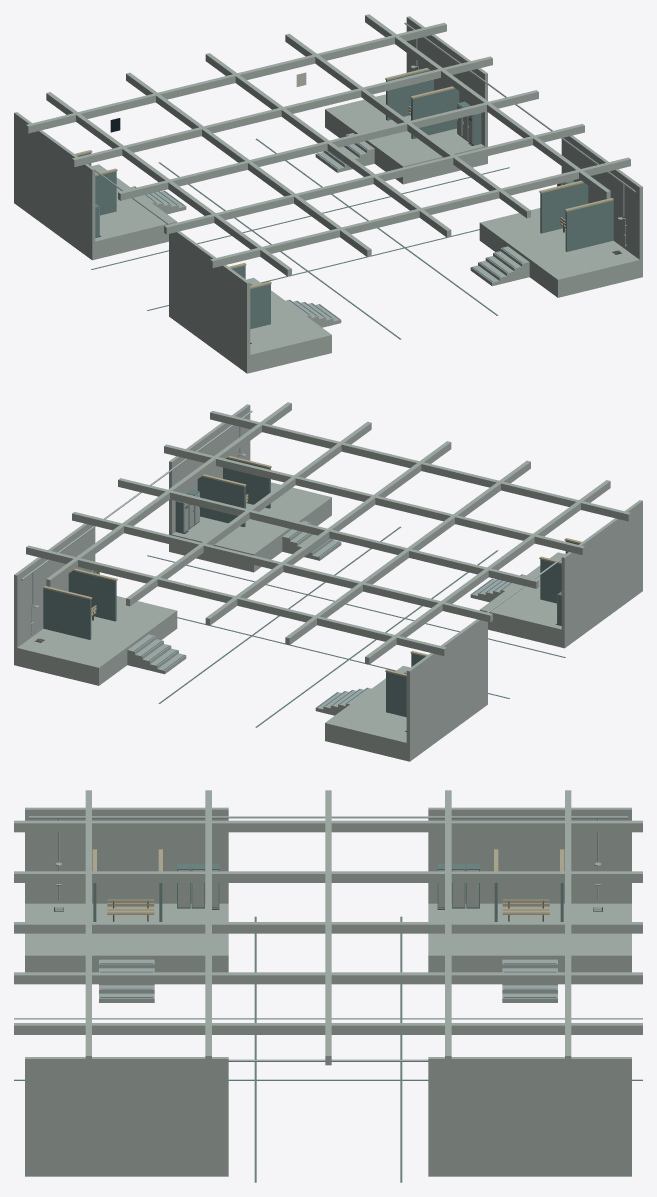
Rendered from quiet-wing-changing-gallery.glb.
3 renders of one model, top to bottom at view 1: azimuth 30°, elevation 25°; view 2: azimuth 150°, elevation 25°; view 3: azimuth 270°, elevation 25°, orthographic. The views are drawn at different scales.
Parts seen in each view (by area): view 1: Ceramic architectural part 168, Ceramic architectural part 084, Ceramic architectural part 033, Ceramic architectural part 066, Ceramic architectural part 117, Ceramic architectural part 015, Ceramic architectural part 010, Ceramic architectural part 004, Ceramic architectural part 002, Ceramic architectural part 008, Ceramic architectural part 006, Ceramic architectural part 186 (+13 smaller); view 2: Ceramic architectural part 117, Ceramic architectural part 033, Ceramic architectural part 084, Ceramic architectural part 015, Ceramic architectural part 168, Ceramic architectural part 066, Ceramic architectural part 002, Ceramic architectural part 008, Ceramic architectural part 004, Ceramic architectural part 006, Ceramic architectural part 010, Ceramic architectural part 135 (+13 smaller); view 3: Ceramic architectural part 135, Ceramic architectural part 186, Ceramic architectural part 033, Ceramic architectural part 084, Ceramic architectural part 015, Ceramic architectural part 066, Ceramic architectural part 001, Ceramic architectural part 007, Ceramic architectural part 003, Ceramic architectural part 005, Ceramic architectural part 009, Ceramic architectural part 117 (+10 smaller).
Part boxes in pixels (x1,y1,x2,y2): Ceramic architectural part 168: (479, 208, 642, 297); Ceramic architectural part 084: (169, 231, 250, 355); Ceramic architectural part 033: (14, 112, 95, 242); Ceramic architectural part 066: (169, 277, 331, 373); Ceramic architectural part 117: (325, 94, 487, 184); Ceramic architectural part 015: (14, 164, 177, 260); Ceramic architectural part 010: (210, 157, 630, 268); Ceramic architectural part 004: (72, 56, 492, 166); Ceramic architectural part 002: (26, 22, 446, 133); Ceramic architectural part 008: (164, 124, 584, 234); Ceramic architectural part 006: (118, 90, 538, 200); Ceramic architectural part 186: (561, 135, 642, 259); Ceramic architectural part 117: (14, 596, 177, 685); Ceramic architectural part 033: (406, 619, 487, 743); Ceramic architectural part 084: (561, 500, 642, 630); Ceramic architectural part 015: (325, 665, 487, 761); Ceramic architectural part 168: (169, 482, 331, 572); Ceramic architectural part 066: (479, 552, 642, 648); Ceramic architectural part 002: (26, 545, 446, 656); Ceramic architectural part 008: (164, 444, 584, 554); Ceramic architectural part 004: (72, 512, 492, 622); Ceramic architectural part 006: (118, 478, 538, 588); Ceramic architectural part 010: (210, 410, 630, 521); Ceramic architectural part 135: (14, 523, 95, 647); Ceramic architectural part 135: (428, 1057, 631, 1153); Ceramic architectural part 186: (25, 1057, 228, 1153); Ceramic architectural part 033: (428, 807, 631, 903); Ceramic architectural part 084: (25, 807, 228, 903); Ceramic architectural part 015: (428, 903, 631, 972); Ceramic architectural part 066: (25, 903, 228, 972); Ceramic architectural part 001: (14, 820, 642, 832); Ceramic architectural part 007: (14, 972, 642, 984); Ceramic architectural part 003: (14, 871, 642, 882); Ceramic architectural part 005: (14, 922, 642, 933); Ceramic architectural part 009: (14, 1023, 642, 1034); Ceramic architectural part 117: (428, 1153, 631, 1176).
Bounding box in the file's own units: 31.5 × 7.06 × 31.5.
